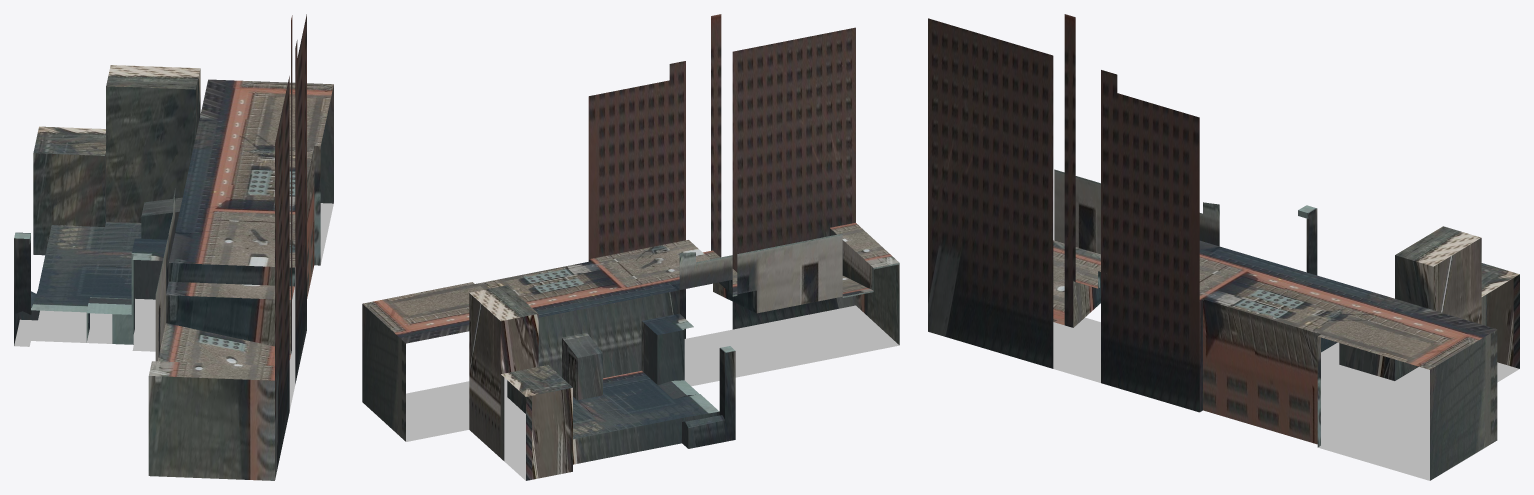
Rendered from {B7515723-FCBD-4229-8416-16F74CCCDBA3}.dae.
3 views of the same model, side by side, from view 1: azimuth 30°, elevation 25°; view 2: azimuth 150°, elevation 25°; view 3: azimuth 270°, elevation 25° (orthographic). The views are drawn at different scales.
Bounding box in the file's own units: 65.87 × 86.72 × 57.96.
Materials: 15 (14 with a texture image).
